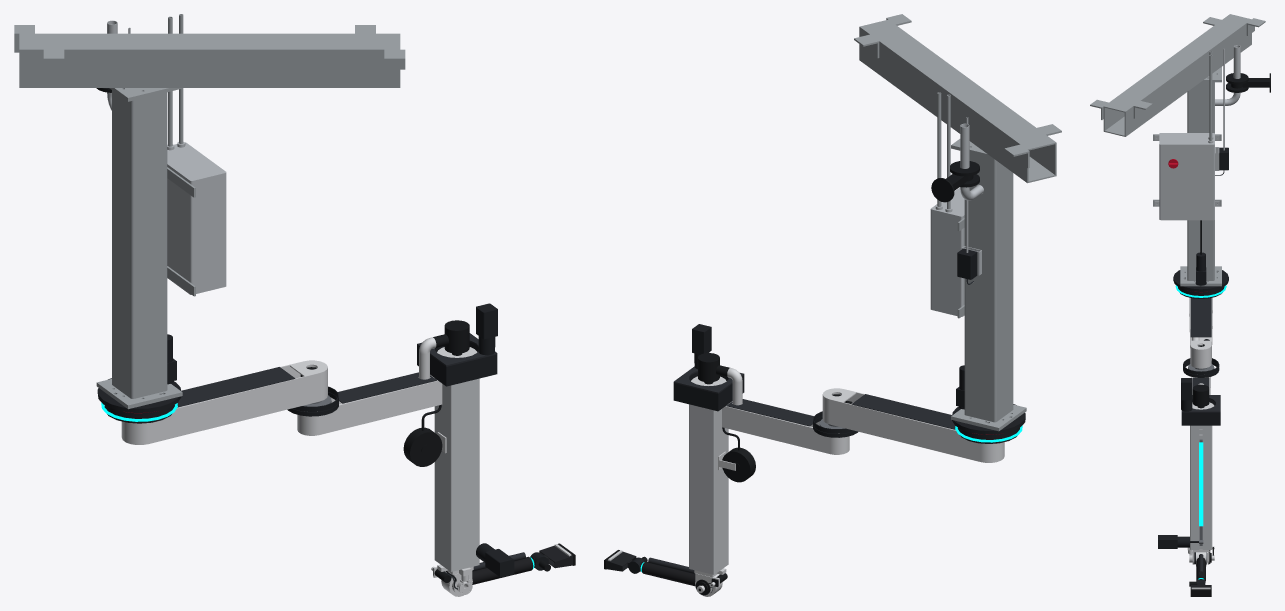
Rendered from clean_arm.depot.glb.
3 renders of one model, left to right at view 1: azimuth 30°, elevation 25°; view 2: azimuth 150°, elevation 25°; view 3: azimuth 270°, elevation 25°, orthographic. The views are drawn at different scales.
Visible parts, largest first — view 1: CLN-HDR#1, CLN-COL#1, CLN-MS1#1, CLN-ENC#1, CLN-L1#1, CLN-L2#1, CLN-L1C#1, CLN-CRG#1, CLN-BAS#1, CLN-MCR#1, CLN-L2C#1, CLN-SGM#1 (+2 smaller); view 2: CLN-COL#1, CLN-HDR#1, CLN-MS1#1, CLN-L1#1, CLN-ENC#1, CLN-L2#1, CLN-L1C#1, CLN-CRG#1, CLN-VGV#1, CLN-BAS#1, CLN-L2C#1, CLN-MCR#1 (+4 smaller); view 3: CLN-HDR#1, CLN-ENC#1, CLN-COL#1, CLN-MS1#1, CLN-L1C#1, CLN-L1#1, CLN-BAS#1, CLN-VGV#1, CLN-CRG#1, CLN-SGM#2, CLN-MSL#1, CLN-SGM#1 (+5 smaller).
Part boxes in pixels (bbox=[...]): CLN-HDR#1: bbox=[19, 33, 400, 87]; CLN-COL#1: bbox=[96, 88, 182, 409]; CLN-MS1#1: bbox=[434, 378, 479, 571]; CLN-ENC#1: bbox=[167, 142, 226, 294]; CLN-L1#1: bbox=[121, 360, 327, 444]; CLN-L2#1: bbox=[297, 377, 442, 435]; CLN-L1C#1: bbox=[174, 367, 295, 407]; CLN-CRG#1: bbox=[417, 342, 497, 386]; CLN-BAS#1: bbox=[97, 378, 181, 423]; CLN-MCR#1: bbox=[403, 427, 442, 466]; CLN-L2C#1: bbox=[338, 372, 436, 403]; CLN-SGM#1: bbox=[476, 303, 497, 355]; CLN-COL#1: bbox=[951, 139, 1026, 431]; CLN-HDR#1: bbox=[859, 19, 1056, 183]; CLN-MS1#1: bbox=[689, 404, 728, 574]; CLN-L1#1: bbox=[822, 388, 1004, 462]; CLN-ENC#1: bbox=[930, 187, 964, 316]; CLN-L2#1: bbox=[722, 406, 849, 454]; CLN-L1C#1: bbox=[851, 394, 957, 429]; CLN-CRG#1: bbox=[673, 372, 744, 411]; CLN-VGV#1: bbox=[931, 161, 979, 202]; CLN-BAS#1: bbox=[952, 404, 1025, 443]; CLN-L2C#1: bbox=[726, 399, 813, 426]; CLN-MCR#1: bbox=[722, 447, 755, 482]; CLN-HDR#1: bbox=[1103, 14, 1251, 136]; CLN-ENC#1: bbox=[1154, 133, 1219, 220]; CLN-COL#1: bbox=[1180, 67, 1221, 286]; CLN-MS1#1: bbox=[1190, 425, 1212, 549]; CLN-L1C#1: bbox=[1190, 298, 1211, 337]; CLN-L1#1: bbox=[1189, 297, 1212, 368]; CLN-BAS#1: bbox=[1173, 270, 1228, 298]; CLN-VGV#1: bbox=[1226, 73, 1270, 92]; CLN-CRG#1: bbox=[1181, 399, 1220, 425]; CLN-SGM#2: bbox=[1158, 535, 1198, 548]; CLN-MSL#1: bbox=[1199, 442, 1203, 526]; CLN-SGM#1: bbox=[1181, 378, 1192, 411].
Size of the model in its own units: 2.9 by 3.36 by 1.3.
